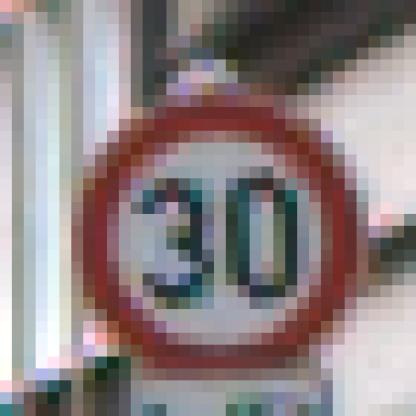Speed Limit 30: (82, 105, 353, 370)
